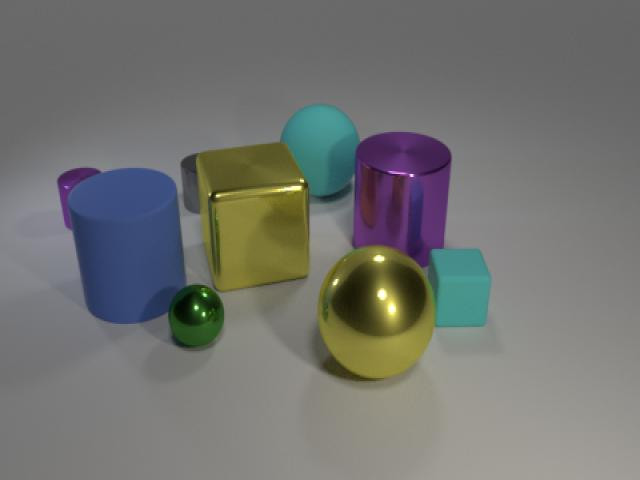cylinder: (62, 164, 190, 328), (348, 125, 453, 267), (54, 164, 108, 230), (178, 148, 219, 216)
round ball: (313, 243, 437, 382), (275, 99, 366, 198), (166, 279, 227, 350)
